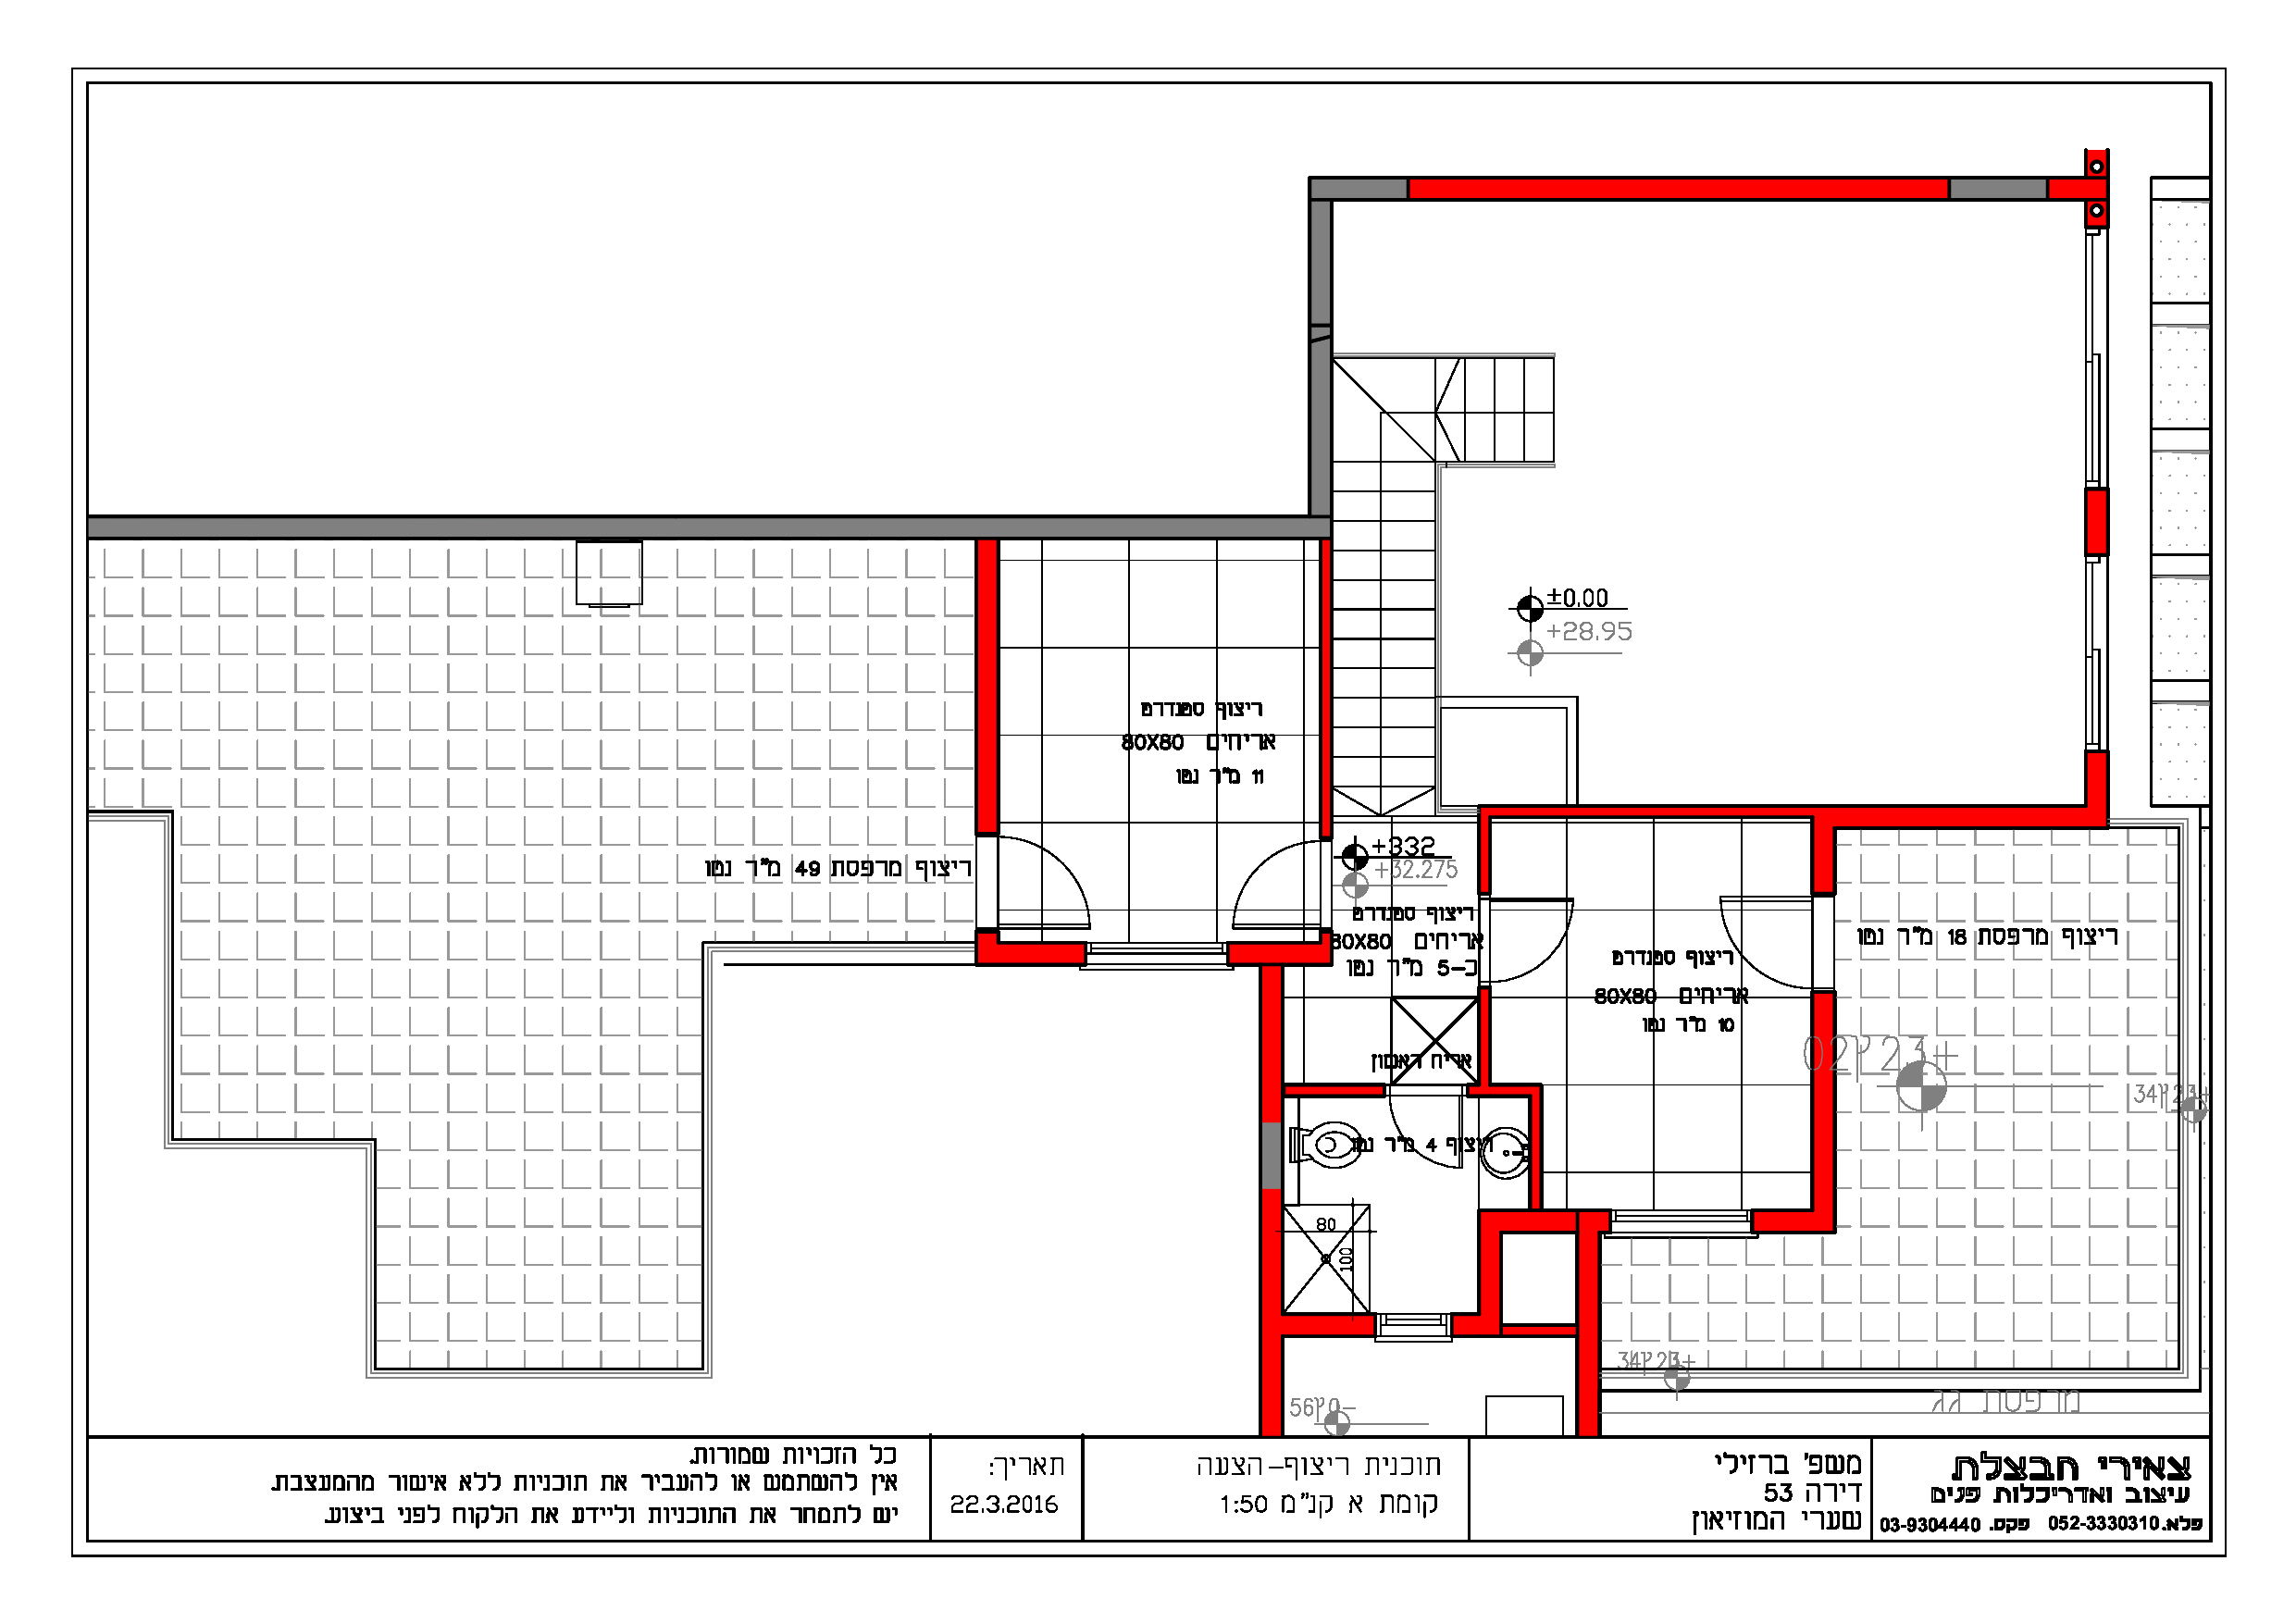wall: (95, 513, 1335, 537)
